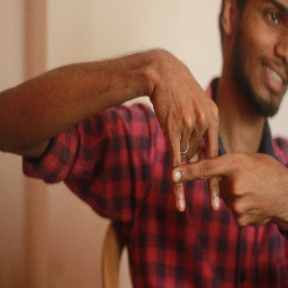H: (142, 115, 253, 231)
